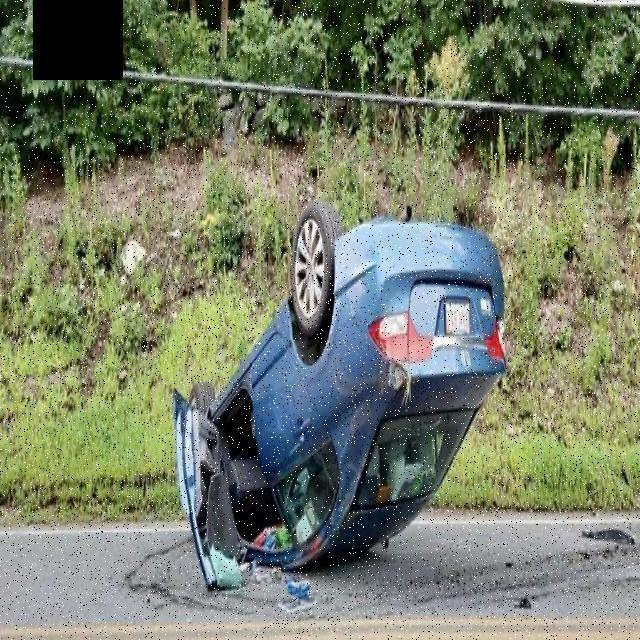accident: (169, 192, 512, 596)
